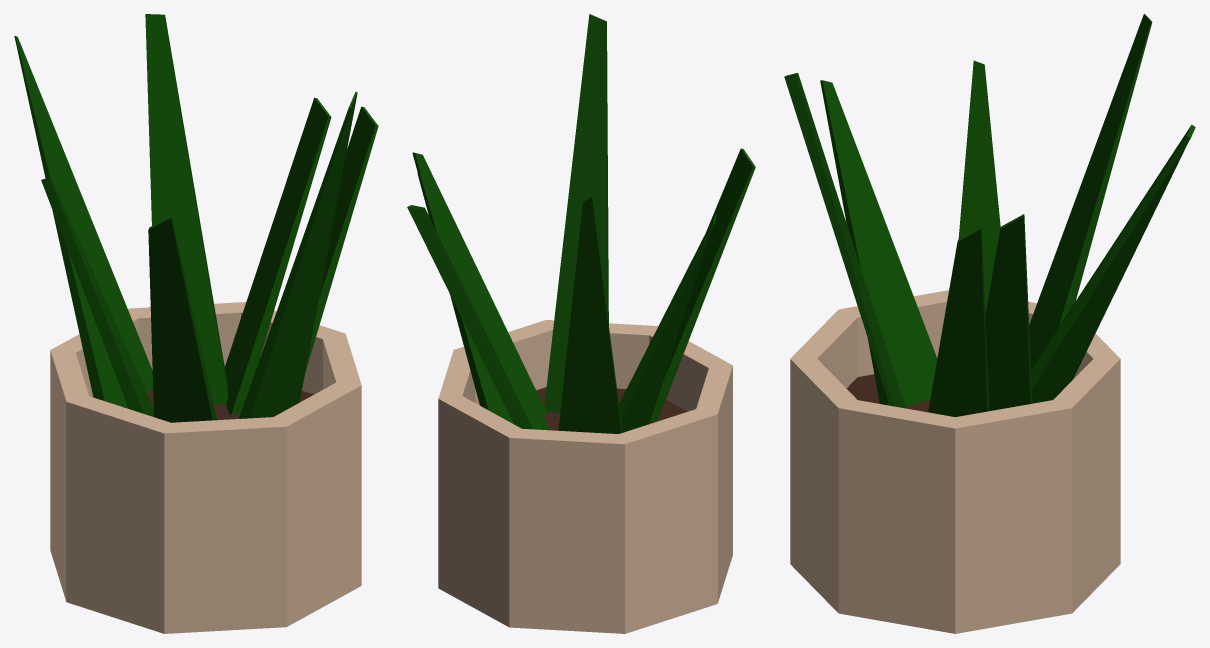
The model's file is kahverafibitki.fbx.
The picture shows the model from 3 angles, left to right: view 1: azimuth 30°, elevation 25°; view 2: azimuth 150°, elevation 25°; view 3: azimuth 270°, elevation 25°; orthographic projection. The views are drawn at different scales.
Visible parts, largest first — view 1: Cylinder.043, Plane.006, Plane.008, Plane.005, Plane.009, Plane.010, Plane.004, Plane.007; view 2: Cylinder.043, Plane.008, Plane.005, Plane.010, Plane.004, Plane.009, Plane.006, Plane.007; view 3: Cylinder.043, Plane.009, Plane.005, Plane.007, Plane.006, Plane.010, Plane.004, Plane.008.
Boxes of the visible parts, x1=… form: Cylinder.043: x1=50, y1=302, x2=361, y2=633; Plane.006: x1=145, y1=14, x2=228, y2=405; Plane.008: x1=239, y1=91, x2=357, y2=418; Plane.005: x1=14, y1=36, x2=152, y2=407; Plane.009: x1=148, y1=216, x2=216, y2=422; Plane.010: x1=224, y1=97, x2=331, y2=414; Plane.004: x1=41, y1=177, x2=153, y2=416; Plane.007: x1=305, y1=106, x2=378, y2=372; Cylinder.043: x1=438, y1=320, x2=732, y2=633; Plane.008: x1=544, y1=14, x2=608, y2=413; Plane.005: x1=558, y1=196, x2=622, y2=433; Plane.010: x1=417, y1=173, x2=549, y2=430; Plane.004: x1=619, y1=214, x2=716, y2=432; Plane.009: x1=649, y1=148, x2=755, y2=423; Plane.006: x1=407, y1=205, x2=532, y2=429; Plane.007: x1=412, y1=152, x2=546, y2=414; Cylinder.043: x1=790, y1=290, x2=1120, y2=633; Plane.009: x1=820, y1=80, x2=937, y2=406; Plane.005: x1=1029, y1=14, x2=1152, y2=368; Plane.007: x1=928, y1=227, x2=989, y2=416; Plane.006: x1=1031, y1=124, x2=1195, y2=403; Plane.010: x1=985, y1=214, x2=1032, y2=410; Plane.004: x1=958, y1=60, x2=1000, y2=314; Plane.008: x1=784, y1=73, x2=905, y2=408.
Bounding box in the file's own units: 8.08 × 12.28 × 8.68.
1 material, 1 textured.
